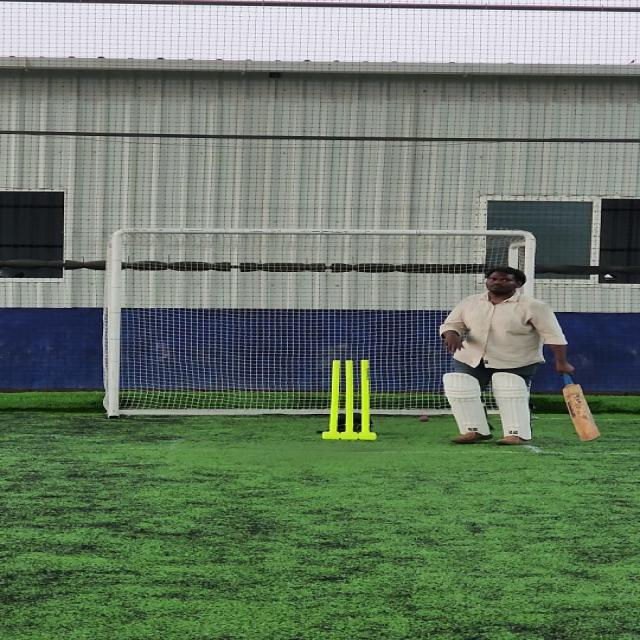ball: (415, 412, 437, 424)
stump: (320, 358, 380, 443)
